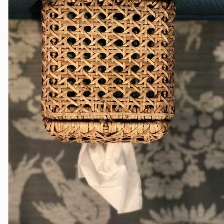tissue: (73, 138, 150, 218)
